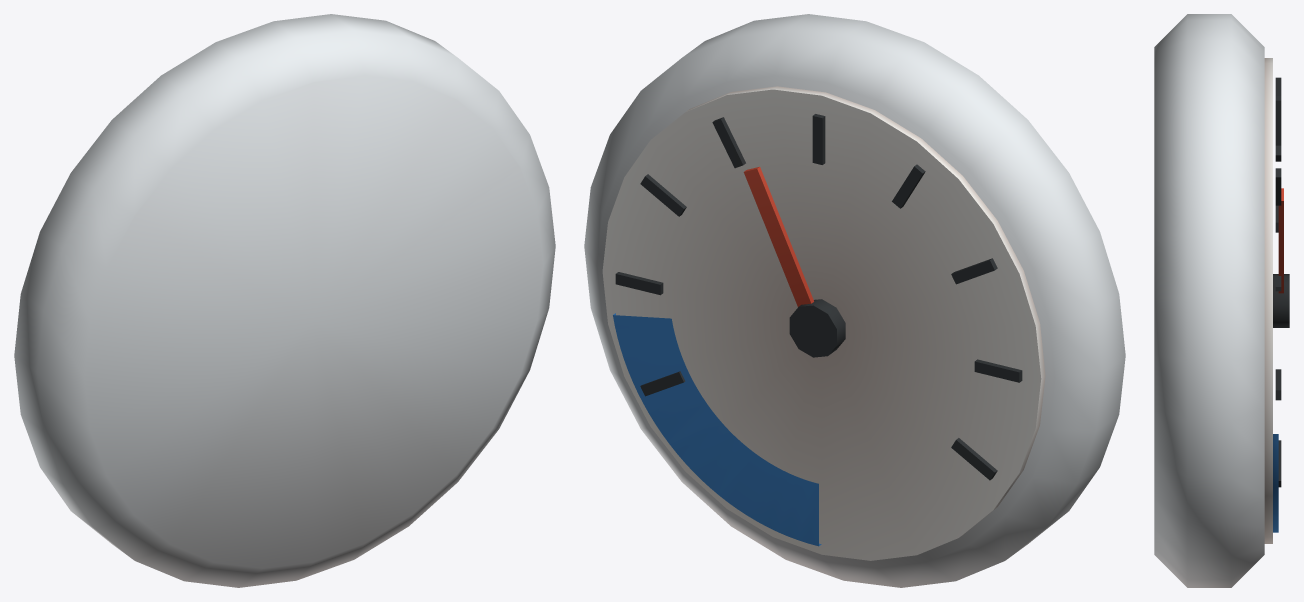
File: fp-thermometer.gltf
The picture shows the model from 3 angles, left to right: view 1: azimuth 30°, elevation 25°; view 2: azimuth 150°, elevation 25°; view 3: azimuth 270°, elevation 25°; orthographic projection. The views are drawn at different scales.
Visible parts, largest first — view 1: model; view 2: model; view 3: model.
Part boxes in pixels (<box>): model: <box>14,14,555,587</box>; model: <box>584,14,1125,587</box>; model: <box>1154,14,1289,587</box>.
Size of the model in its own units: 0.104 by 0.104 by 0.0245.
